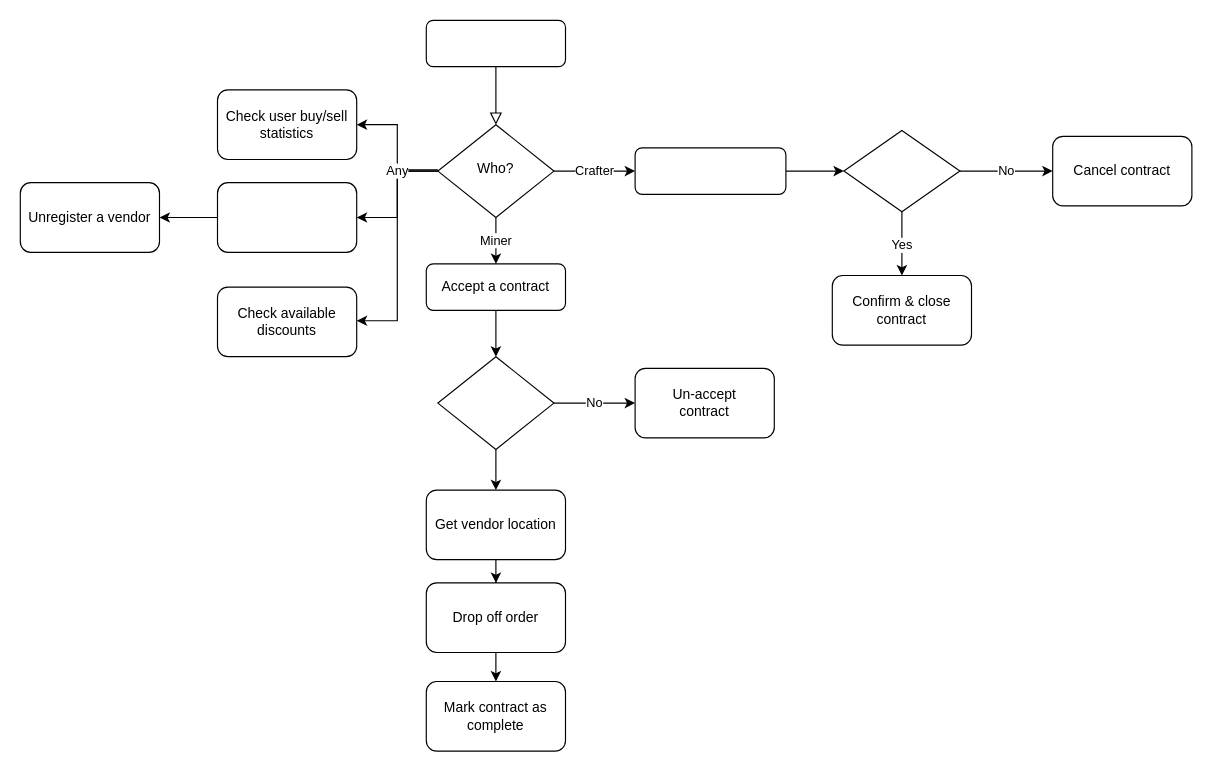
This 1212x771 diagram has some shape labels left out. The shapes that lost their labels are listed below. From the top down, each one's box as (x1, y1, x2, y2) in pixels, then its label:
(425, 19, 566, 67): Start
(634, 147, 786, 194): Open a contract
(843, 129, 960, 212): Contract marked as complete?
(216, 182, 357, 252): Register a vendor
(437, 356, 554, 449): Contract fulfilled?
